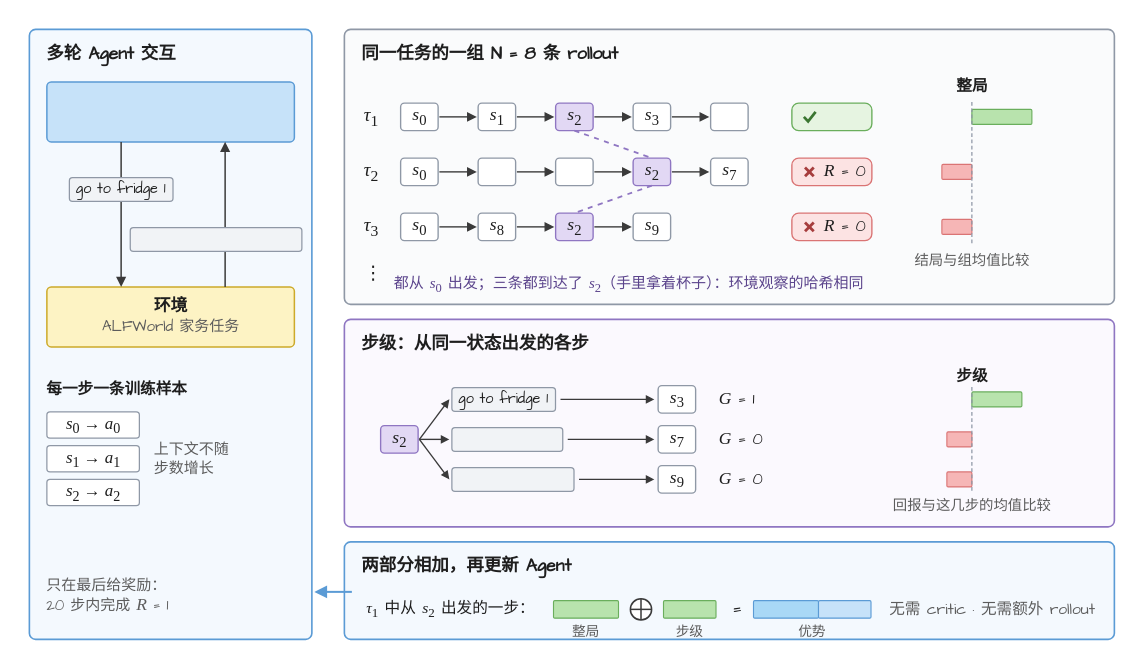
Image size: 1143x668. Some labels were removed from this diagram. Here are the shapes that lost their labels. From the top down, the centre of each, then its label:
At pixel 170 111: "LLM Agent Qwen3-4B".
At pixel 728 116: "s 4".
At pixel 831 116: "R = 1".
At pixel 496 171: "s 5".
At pixel 573 171: "s 6".
At pixel 215 238: "“You arrive at fridge 1.”".
At pixel 507 438: "go to cabinet 1".
At pixel 512 478: "go to sinkbasin 1".
